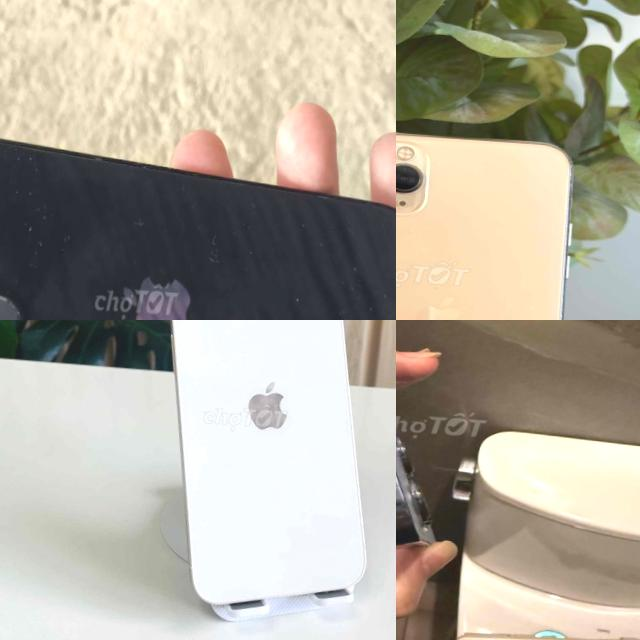gen_11: (396, 119, 590, 320)
gen_12_13: (0, 115, 396, 320), (396, 320, 489, 600)
gen_14: (142, 320, 392, 608)
